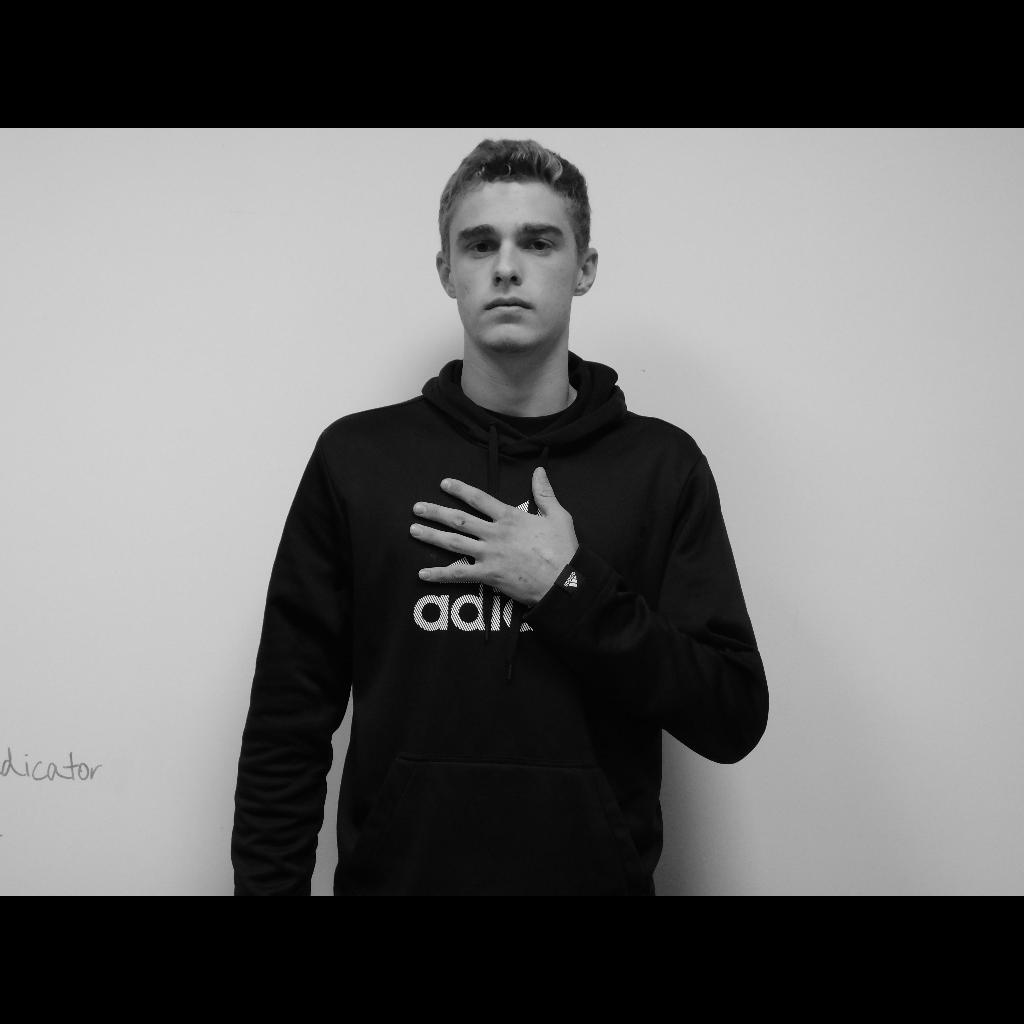like: (410, 466, 572, 600)
